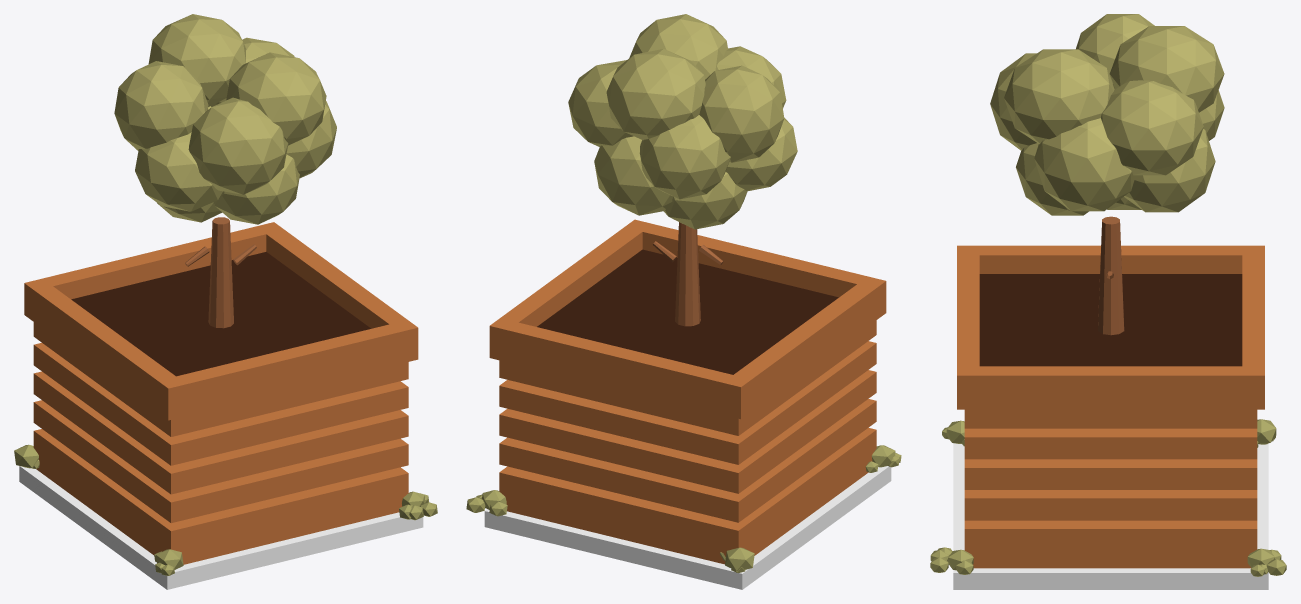
File: 38-tree-planter-box.glb
3 views of the same model, side by side, from view 1: azimuth 30°, elevation 25°; view 2: azimuth 150°, elevation 25°; view 3: azimuth 270°, elevation 25° (orthographic). The views are drawn at different scales.
Visible parts, largest first — view 1: SoilInside, RimS, Slat2, Slat3, Slat4, Slat1, SoilBed, Lobe6, Slat5, RimW, Lobe4, RimN (+10 smaller); view 2: SoilInside, RimN, Slat2, Slat4, Slat3, Slat1, SoilBed, Lobe2, Slat5, RimW, RimS, Lobe4 (+10 smaller); view 3: SoilInside, RimE, Slat4, Slat1, SoilBed, Slat2, Slat3, Lobe3, Lobe5, RimW, Lobe8, Lobe2 (+10 smaller).
Boxes of the visible parts, <box> form: SoilInside: <box>71,252,371,376</box>; RimS: <box>158,320,418,420</box>; Slat2: <box>33,400,408,523</box>; Slat3: <box>33,371,408,494</box>; Slat4: <box>33,342,408,465</box>; Slat1: <box>33,429,408,550</box>; SoilBed: <box>19,466,423,589</box>; Lobe6: <box>188,97,288,194</box>; Slat5: <box>33,322,408,436</box>; RimW: <box>34,286,175,412</box>; Lobe4: <box>114,61,208,150</box>; RimN: <box>24,222,284,322</box>; SoilInside: <box>537,249,838,374</box>; RimN: <box>489,318,751,419</box>; Slat2: <box>499,399,876,522</box>; Slat4: <box>499,341,876,464</box>; Slat3: <box>499,370,876,493</box>; Slat1: <box>499,427,876,549</box>; SoilBed: <box>484,466,891,589</box>; Lobe2: <box>606,48,705,140</box>; Slat5: <box>499,320,876,435</box>; RimW: <box>734,284,875,411</box>; RimS: <box>624,219,886,320</box>; Lobe4: <box>699,65,784,162</box>; SoilInside: <box>979,274,1242,366</box>; RimE: <box>979,366,1242,409</box>; Slat4: <box>964,428,1257,459</box>; Slat1: <box>964,520,1257,551</box>; SoilBed: <box>953,443,1268,589</box>; Slat2: <box>964,490,1257,520</box>; Slat3: <box>964,459,1257,489</box>; Lobe3: <box>1004,49,1114,144</box>; Lobe5: <box>1101,80,1203,175</box>; RimW: <box>979,245,1242,273</box>; Lobe8: <box>1034,118,1135,211</box>; Lobe2: <box>1109,26,1224,112</box>.
Size of the model in its own units: 1.83 by 2.92 by 1.9.
